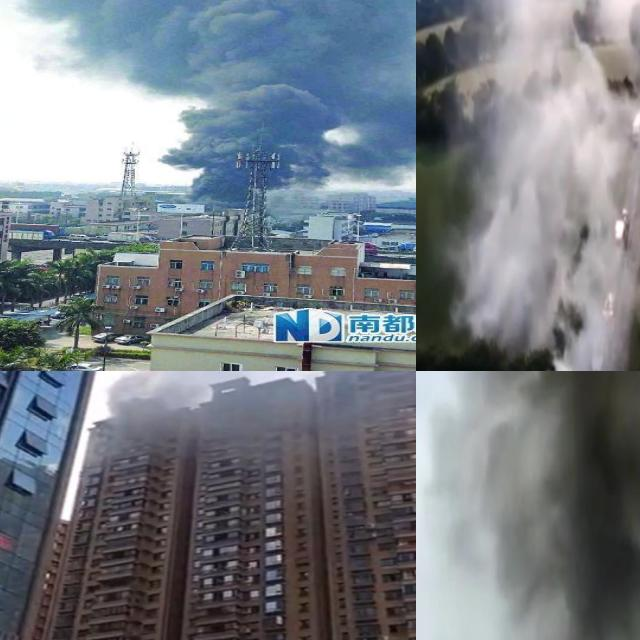smoke: (3, 0, 416, 197), (443, 0, 640, 371), (448, 371, 640, 640), (98, 371, 416, 445)
